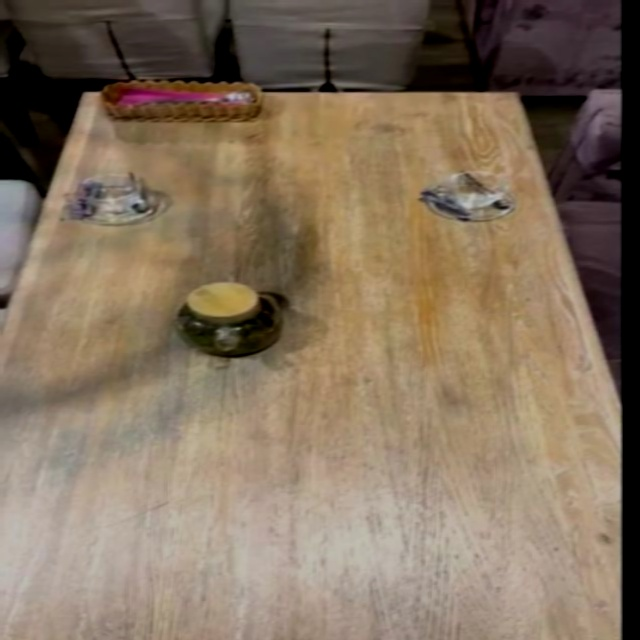tea: (138, 267, 298, 404)
